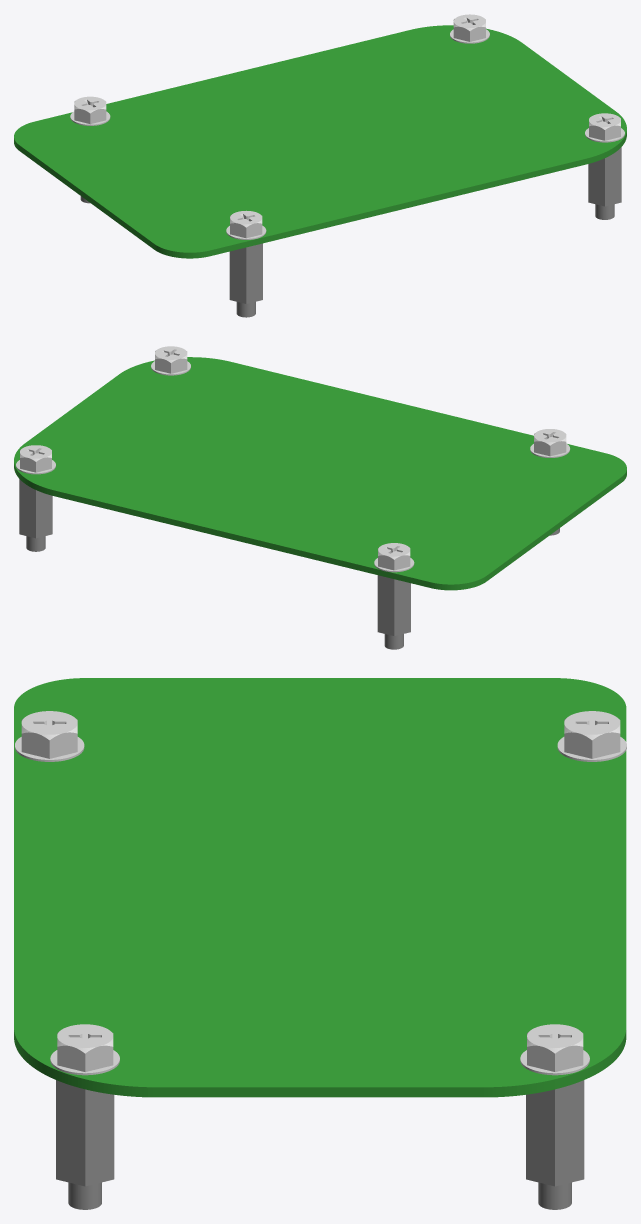
3 renders of one model, top to bottom at view 1: azimuth 30°, elevation 25°; view 2: azimuth 150°, elevation 25°; view 3: azimuth 270°, elevation 25°, orthographic. The views are drawn at different scales.
Parts seen in each view (by area): view 1: out-board, out-standoff_001, out-standoff_004, out-screw_002, out-screw_000, out-screw_001, out-screw_004; view 2: out-board, out-standoff_002, out-standoff_000, out-screw_002, out-screw_004, out-screw_001, out-screw_000; view 3: out-board, out-standoff_000, out-standoff_004, out-screw_004, out-screw_000, out-screw_002, out-screw_001.
Part boxes in pixels (left/top/right/bottom): out-board: left=14, top=25, right=626, bottom=258; out-standoff_001: left=229, top=243, right=262, bottom=317; out-standoff_004: left=588, top=147, right=621, bottom=219; out-screw_002: left=70, top=96, right=110, bottom=125; out-screw_000: left=450, top=14, right=489, bottom=43; out-screw_001: left=226, top=210, right=266, bottom=239; out-screw_004: left=585, top=113, right=624, bottom=142; out-board: left=14, top=357, right=626, bottom=590; out-standoff_002: left=377, top=575, right=410, bottom=649; out-standoff_000: left=19, top=479, right=52, bottom=551; out-screw_002: left=374, top=543, right=414, bottom=572; out-screw_004: left=151, top=346, right=190, bottom=375; out-screw_001: left=530, top=429, right=570, bottom=457; out-screw_000: left=16, top=445, right=55, bottom=474; out-board: left=14, top=678, right=626, bottom=1097; out-standoff_000: left=526, top=1080, right=584, bottom=1209; out-standoff_004: left=56, top=1080, right=114, bottom=1209; out-screw_004: left=50, top=1024, right=119, bottom=1075; out-screw_000: left=520, top=1024, right=589, bottom=1075; out-screw_002: left=557, top=711, right=626, bottom=761; out-screw_001: left=15, top=711, right=84, bottom=761.
Bounding box in the file's own units: 0.0864 × 0.0164 × 0.0547.
